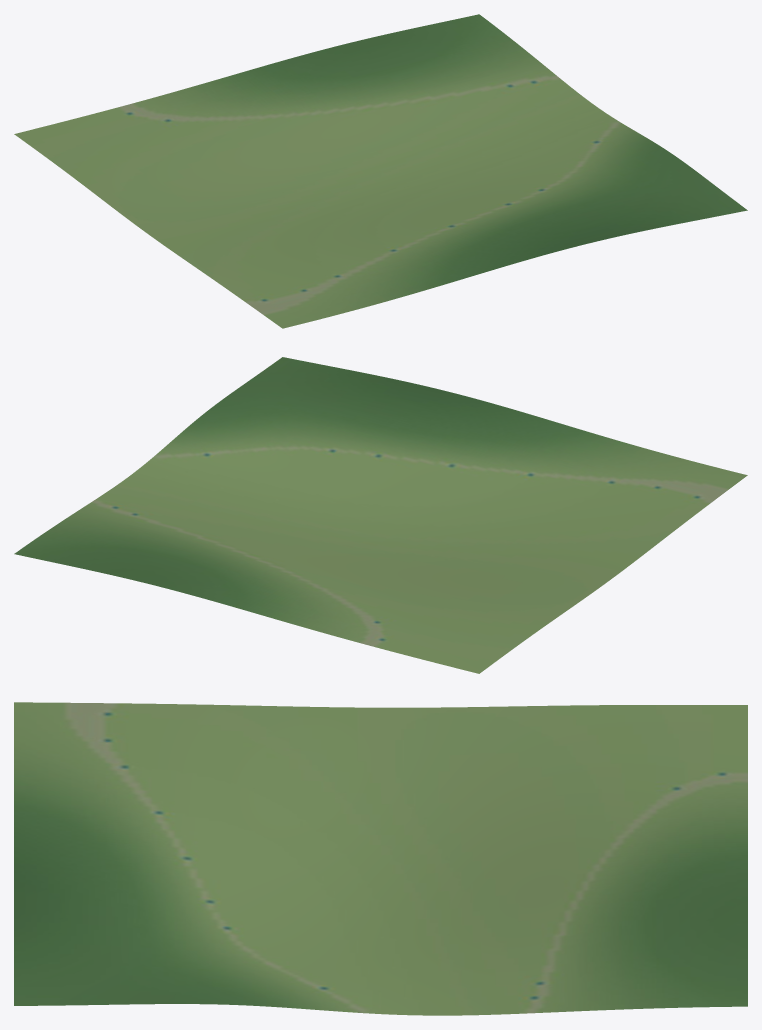
File: terrain_T_W01_N00.glb
3 renders of one model, top to bottom at view 1: azimuth 30°, elevation 25°; view 2: azimuth 150°, elevation 25°; view 3: azimuth 270°, elevation 25°, orthographic. The views are drawn at different scales.
Visible parts, largest first — view 1: Terrain_T_W01_N00; view 2: Terrain_T_W01_N00; view 3: Terrain_T_W01_N00.
Part boxes in pixels (left/top/right/bottom): Terrain_T_W01_N00: left=14, top=14, right=747, bottom=328; Terrain_T_W01_N00: left=14, top=357, right=747, bottom=673; Terrain_T_W01_N00: left=14, top=702, right=747, bottom=1015.
Size of the model in its own units: 2000 by 94.43 by 2000.
1 material, 1 textured.
